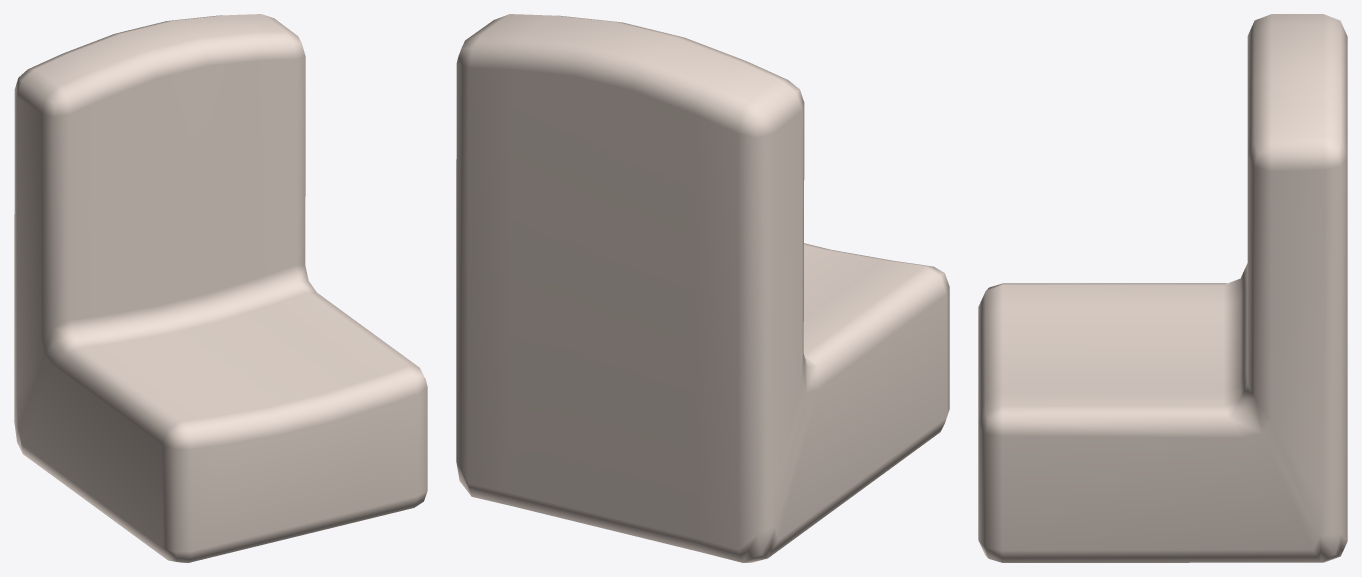
Rendered from Chair_3.glb.
The picture shows the model from 3 angles, left to right: view 1: azimuth 30°, elevation 25°; view 2: azimuth 150°, elevation 25°; view 3: azimuth 270°, elevation 25°; orthographic projection. The views are drawn at different scales.
Parts seen in each view (by area): view 1: Chair_3; view 2: Chair_3; view 3: Chair_3.
Boxes of the visible parts, x1,y1,x2,y2 form: Chair_3: (14,14,427,562); Chair_3: (456,14,949,562); Chair_3: (978,14,1347,562).
Bounding box in the file's own units: 0.6164 × 0.899 × 0.6794.
1 material, 1 textured.
